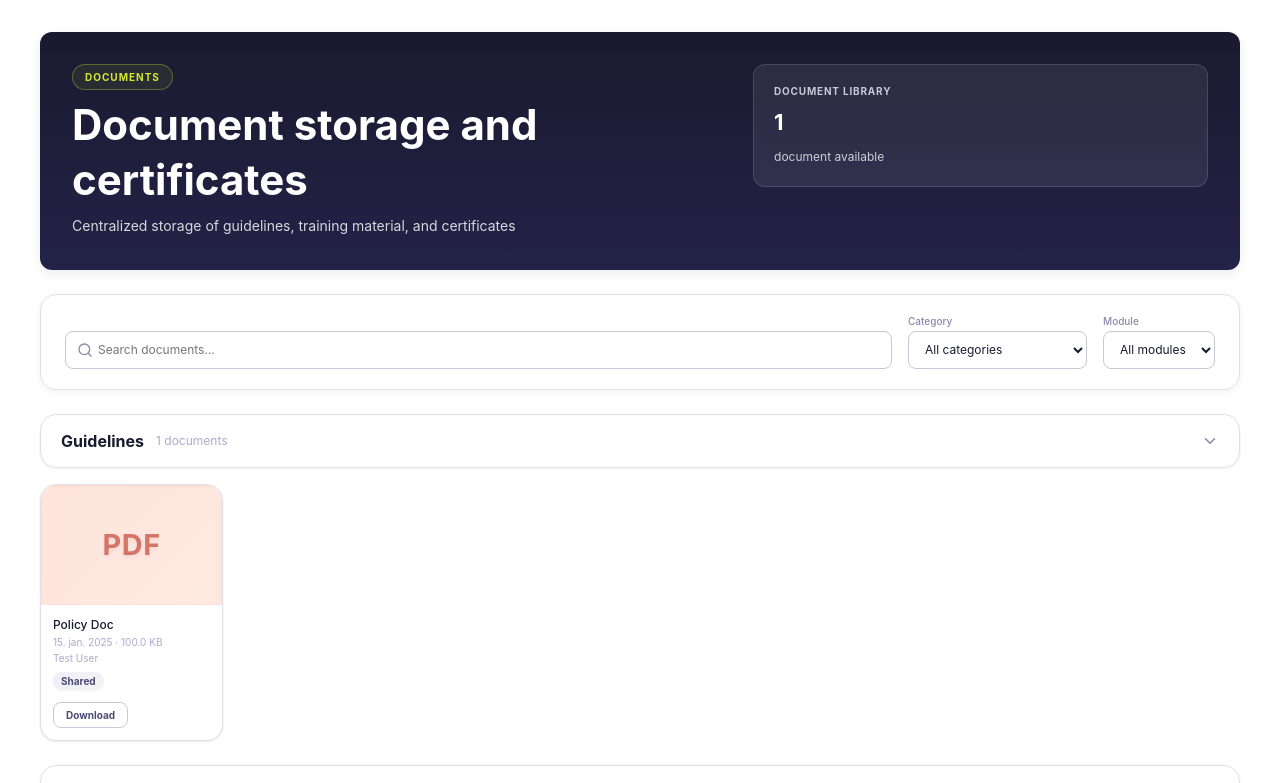
Scenario: DocumentsView › category collapse › expands a collapsed category when header is clicked again
Step 1. Click the element with class "category-header" showing "Guidelines 1 documents" → (640,441), box [40,414,1240,468]
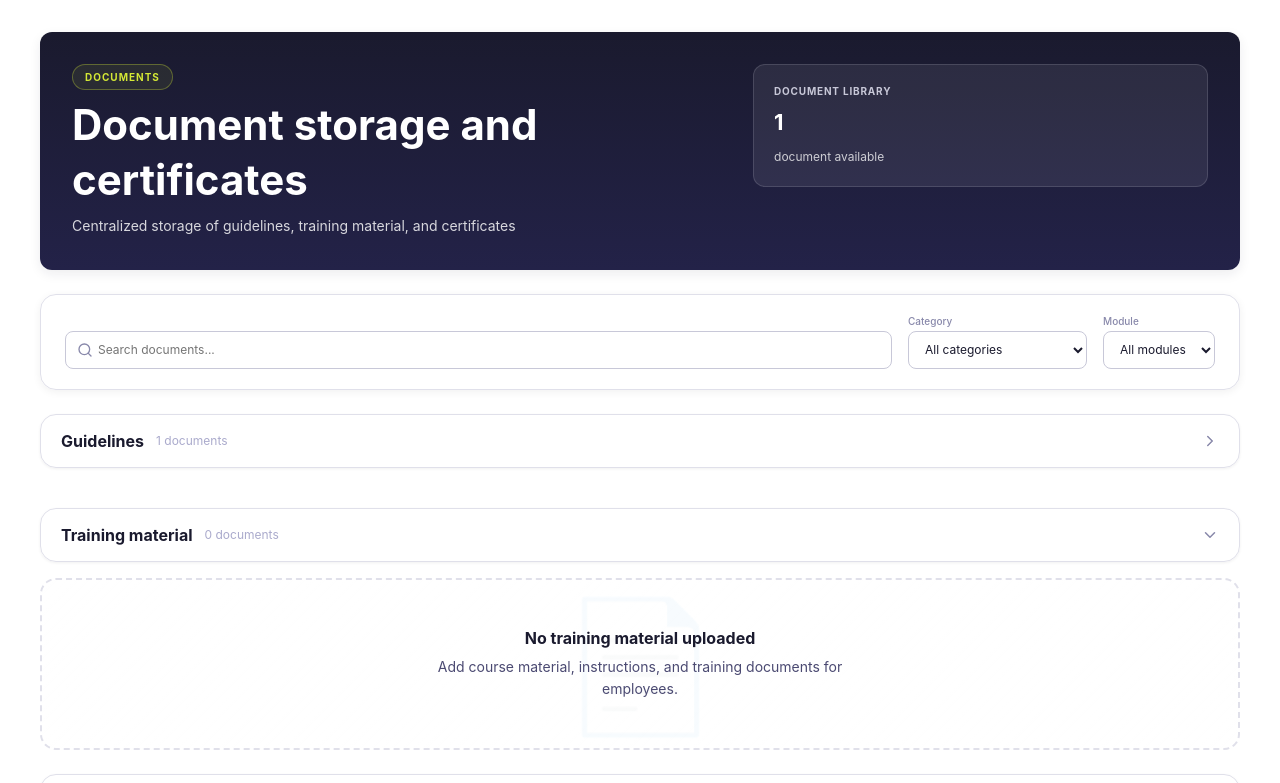
Step 2. Click the element with class "category-header" showing "Guidelines 1 documents" → (640,441), box [40,414,1240,468]
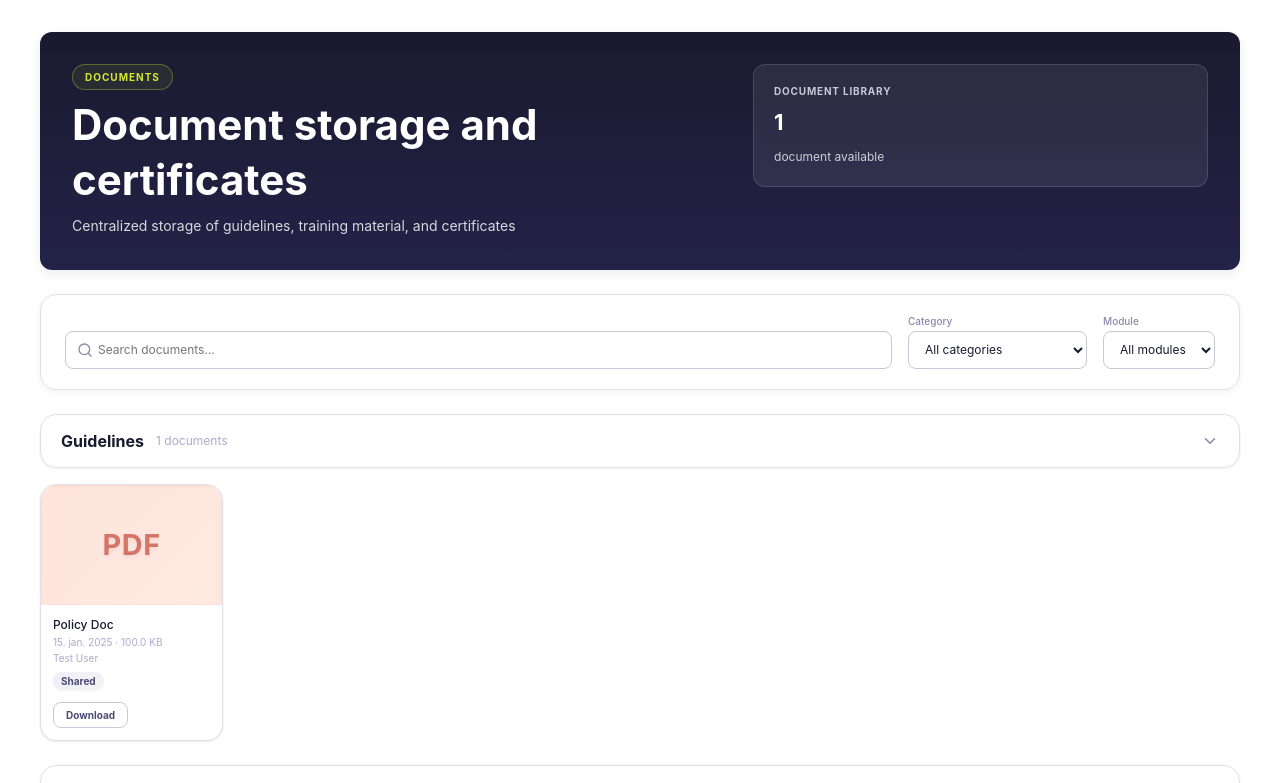
Now the element with class "doc-grid" is shown, box [40,484,223,741]
